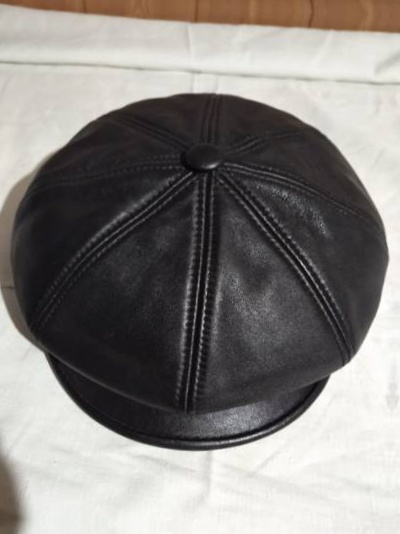Hat: (0, 56, 400, 461), (391, 76, 400, 481)
